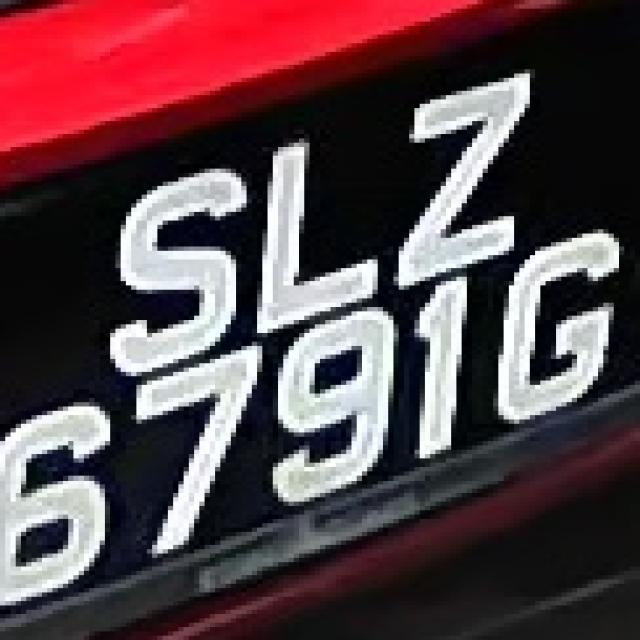1: (399, 273, 477, 472)
6: (5, 376, 121, 614)
7: (95, 350, 268, 575)
9: (257, 303, 404, 510)
G: (498, 229, 619, 428)
L: (257, 116, 409, 328)
S: (105, 156, 241, 385)
Z: (383, 61, 546, 286)
